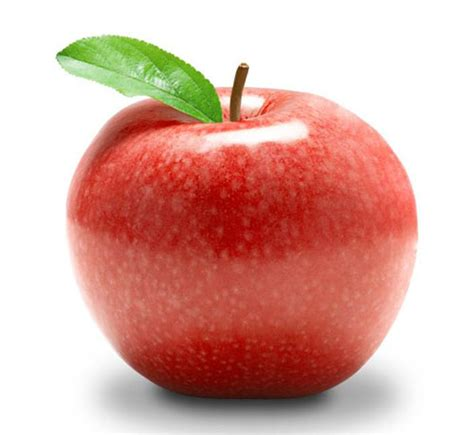apple: (61, 62, 422, 405)
